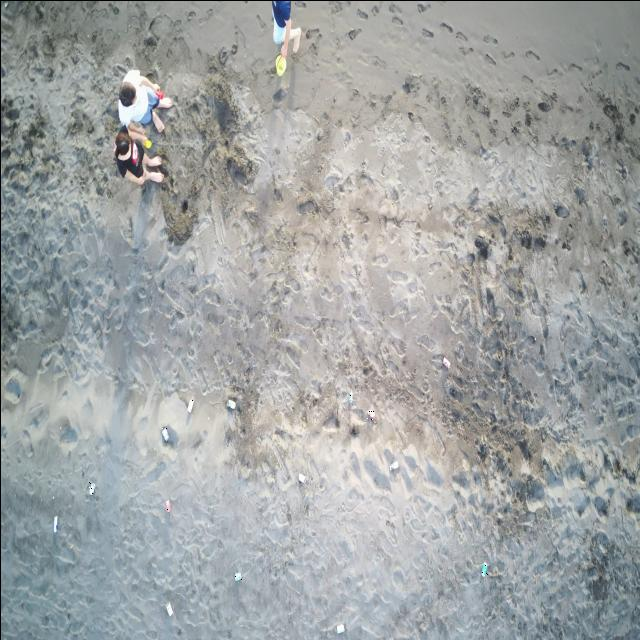Garbage: (276, 55, 286, 75), (164, 602, 172, 615), (163, 500, 171, 512), (388, 460, 397, 470), (161, 427, 167, 442), (143, 138, 151, 148), (298, 473, 306, 483), (442, 356, 449, 367), (187, 397, 192, 412), (335, 624, 344, 632), (156, 89, 163, 99), (88, 482, 94, 493), (227, 400, 235, 408), (482, 563, 487, 575), (233, 572, 240, 580), (367, 409, 372, 420), (347, 392, 352, 403), (52, 515, 55, 532)
